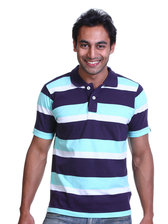clothoes: (30, 61, 152, 219)
